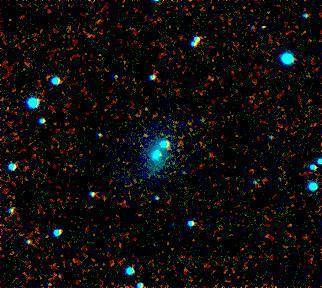star: (132, 118, 162, 148)
